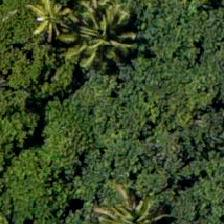Kelapa_Sawit: (68, 0, 158, 90), (0, 0, 80, 59)
